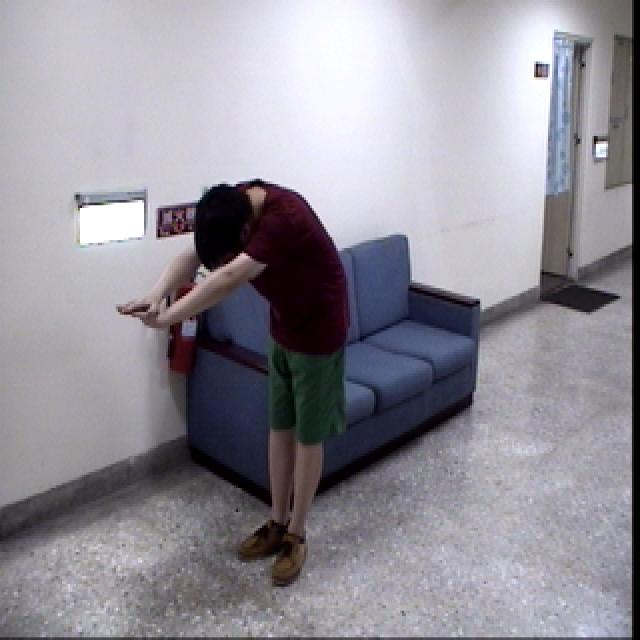bend: (117, 169, 359, 587)
